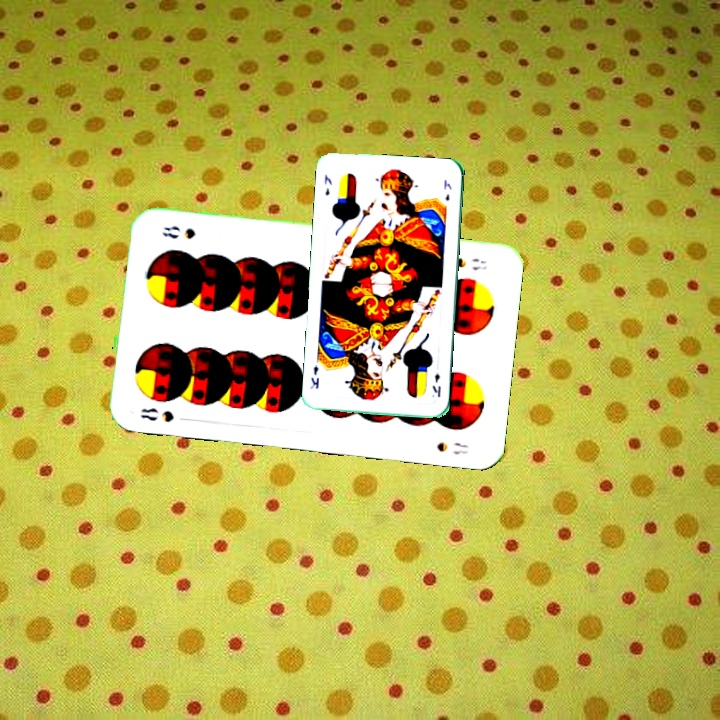EK: (428, 369, 443, 400), (320, 171, 334, 198)
S8: (137, 404, 177, 425), (451, 253, 490, 273)
